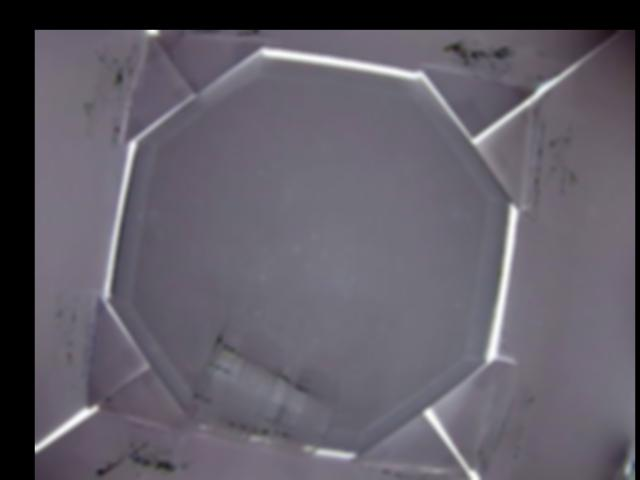Cup: (189, 322, 337, 454)
